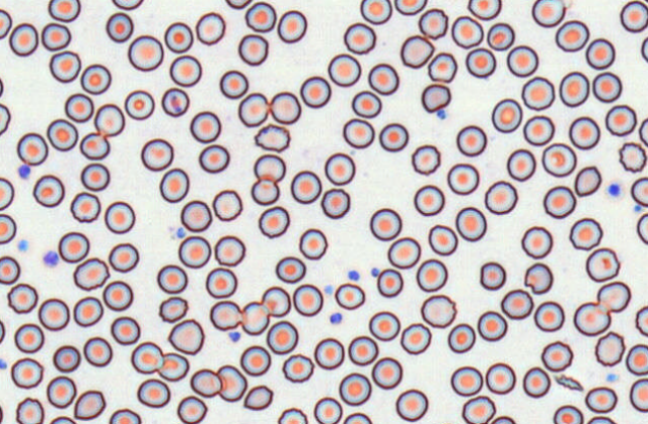PLT: (41, 249, 59, 267), (18, 163, 33, 179), (16, 238, 30, 252), (608, 183, 622, 197), (329, 311, 342, 325), (348, 268, 361, 281), (606, 372, 620, 383), (229, 331, 242, 342), (323, 283, 334, 295), (0, 358, 7, 372), (372, 268, 380, 277), (634, 205, 642, 213)
RBC: (167, 318, 204, 355), (127, 34, 163, 71), (573, 301, 611, 336), (585, 247, 620, 282), (541, 142, 576, 177), (420, 294, 456, 328), (73, 257, 109, 290), (400, 34, 434, 68), (521, 76, 555, 110), (484, 180, 517, 214), (327, 53, 361, 86), (555, 19, 589, 52), (596, 280, 631, 312), (558, 71, 589, 107), (130, 341, 163, 374), (395, 388, 428, 421), (338, 372, 371, 405), (569, 217, 602, 250), (543, 185, 576, 218), (178, 235, 211, 268), (446, 162, 479, 195), (140, 138, 173, 171), (266, 320, 298, 354), (594, 331, 625, 366), (238, 92, 269, 127), (455, 206, 486, 241), (491, 98, 522, 133), (269, 91, 301, 124), (540, 340, 573, 372), (451, 15, 483, 48), (387, 236, 420, 268), (369, 207, 401, 240), (367, 62, 399, 95), (343, 22, 376, 54), (169, 54, 201, 87), (299, 75, 331, 108), (189, 110, 221, 143), (180, 199, 212, 232), (46, 118, 78, 151), (16, 132, 48, 165), (506, 44, 538, 77), (32, 174, 64, 207), (568, 116, 600, 149), (416, 258, 447, 292), (94, 103, 125, 137), (38, 297, 69, 331), (159, 167, 189, 202), (254, 123, 290, 152), (49, 50, 81, 82), (605, 104, 637, 136), (450, 365, 483, 396), (500, 288, 533, 319), (10, 357, 43, 388), (371, 356, 402, 389), (521, 225, 552, 258), (324, 152, 355, 185), (290, 170, 321, 203), (292, 283, 323, 316), (104, 200, 135, 233), (136, 378, 170, 408), (195, 11, 225, 45), (8, 22, 38, 56), (277, 9, 307, 43), (400, 322, 431, 354), (368, 310, 400, 341), (73, 389, 105, 420), (239, 345, 271, 376), (533, 300, 564, 332), (205, 267, 237, 298), (313, 337, 344, 369), (258, 206, 289, 238), (413, 184, 444, 216), (342, 117, 374, 148), (244, 1, 276, 32), (58, 231, 89, 263), (209, 300, 242, 330), (46, 375, 76, 408), (506, 148, 536, 181), (240, 301, 269, 335), (102, 280, 133, 311), (7, 282, 38, 313), (214, 235, 245, 266), (80, 63, 111, 94), (465, 47, 496, 78), (485, 362, 515, 394), (212, 189, 242, 221), (238, 33, 268, 65), (163, 21, 193, 53), (456, 124, 486, 156), (585, 37, 615, 69), (461, 395, 495, 423), (477, 310, 507, 341), (347, 335, 378, 365), (427, 51, 457, 82), (418, 8, 448, 39), (14, 322, 44, 353), (320, 187, 350, 218), (70, 191, 100, 222), (198, 143, 229, 173), (73, 296, 103, 327), (523, 115, 554, 145), (108, 242, 139, 272), (124, 89, 154, 120), (592, 71, 622, 102), (253, 153, 285, 182), (157, 352, 189, 381), (282, 353, 314, 382), (531, 0, 565, 27), (378, 122, 408, 152), (190, 368, 221, 397), (79, 131, 110, 160), (261, 286, 290, 317), (156, 264, 187, 293), (83, 336, 112, 367), (411, 144, 440, 175), (298, 228, 327, 259), (428, 224, 457, 255), (40, 22, 71, 51), (522, 366, 550, 398), (619, 0, 647, 32), (584, 386, 617, 413), (421, 83, 451, 112), (80, 162, 110, 191), (110, 316, 140, 345), (219, 69, 248, 99), (618, 141, 646, 172), (176, 395, 207, 423), (64, 93, 93, 122), (447, 323, 475, 353), (105, 12, 133, 42), (351, 90, 381, 118), (161, 87, 189, 117), (334, 282, 365, 309), (574, 165, 601, 196), (275, 256, 305, 283), (52, 344, 80, 372), (486, 22, 514, 50), (250, 178, 279, 205), (313, 396, 342, 423), (376, 268, 403, 297), (479, 261, 506, 290), (243, 384, 273, 410), (158, 296, 188, 322), (360, 0, 392, 24), (15, 397, 44, 423), (47, 0, 80, 22), (625, 343, 647, 375), (467, 0, 501, 20), (629, 378, 647, 412), (552, 404, 583, 423), (0, 255, 20, 284), (630, 176, 647, 207), (0, 213, 16, 244), (108, 408, 141, 423), (394, 0, 427, 15), (277, 407, 307, 423), (0, 176, 14, 210), (635, 305, 647, 336), (0, 8, 12, 39), (636, 212, 647, 244), (0, 102, 10, 135), (111, 0, 143, 10), (343, 412, 372, 423), (638, 117, 647, 146), (225, 0, 252, 9), (586, 415, 616, 423), (49, 415, 76, 423), (490, 415, 515, 423), (640, 36, 647, 62), (0, 318, 5, 343), (0, 74, 4, 97), (0, 404, 3, 423)
Schistocyte: (217, 365, 247, 403), (523, 261, 553, 295), (556, 374, 585, 392)
